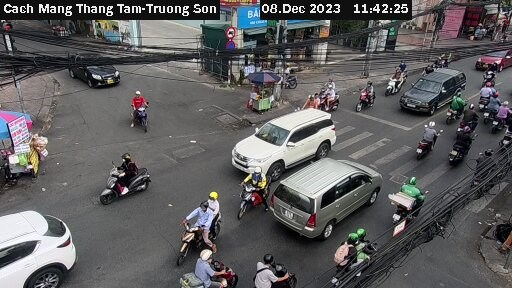car: (268, 157, 382, 239), (230, 108, 336, 180), (1, 199, 85, 288), (400, 66, 467, 117), (475, 43, 512, 72)
motorbike: (323, 232, 391, 283), (172, 204, 229, 260), (100, 153, 155, 201), (168, 256, 241, 288), (243, 254, 306, 288), (386, 182, 432, 228), (126, 93, 164, 133), (413, 119, 444, 162), (447, 126, 477, 168), (469, 149, 498, 188), (353, 80, 382, 111), (457, 107, 479, 135), (444, 95, 464, 125), (382, 69, 405, 95), (488, 102, 510, 127), (476, 82, 493, 104), (479, 67, 499, 85)
